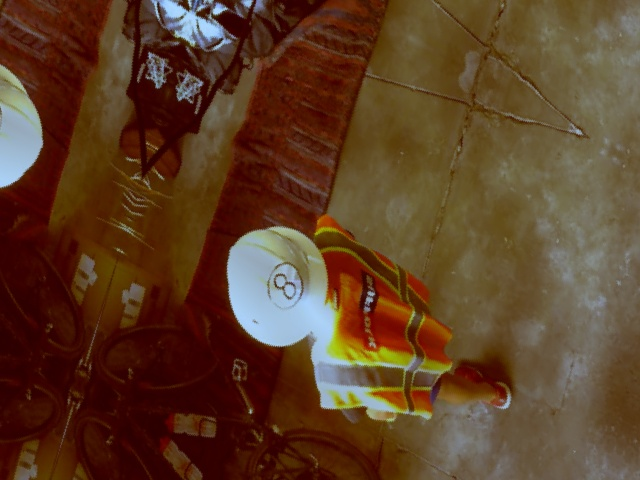eight: (260, 254, 307, 317)
